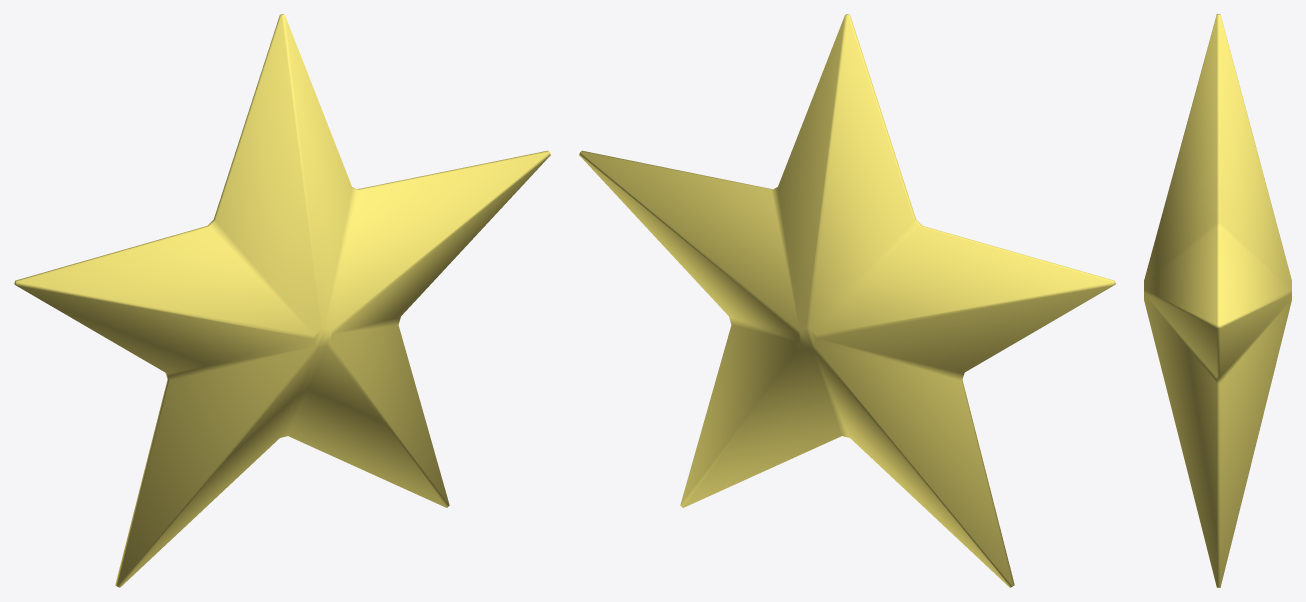
The model's file is star.fbx.
3 views of the same model, side by side, from view 1: azimuth 30°, elevation 25°; view 2: azimuth 150°, elevation 25°; view 3: azimuth 270°, elevation 25° (orthographic). The views are drawn at different scales.
Parts seen in each view (by area): view 1: Cylinder01; view 2: Cylinder01; view 3: Cylinder01.
Part boxes in pixels (x1,y1,x2,y2): Cylinder01: (14, 14, 550, 587); Cylinder01: (579, 14, 1115, 587); Cylinder01: (1144, 14, 1291, 587).
Size of the model in its own units: 150 by 38.27 by 142.
1 material, 1 textured.
